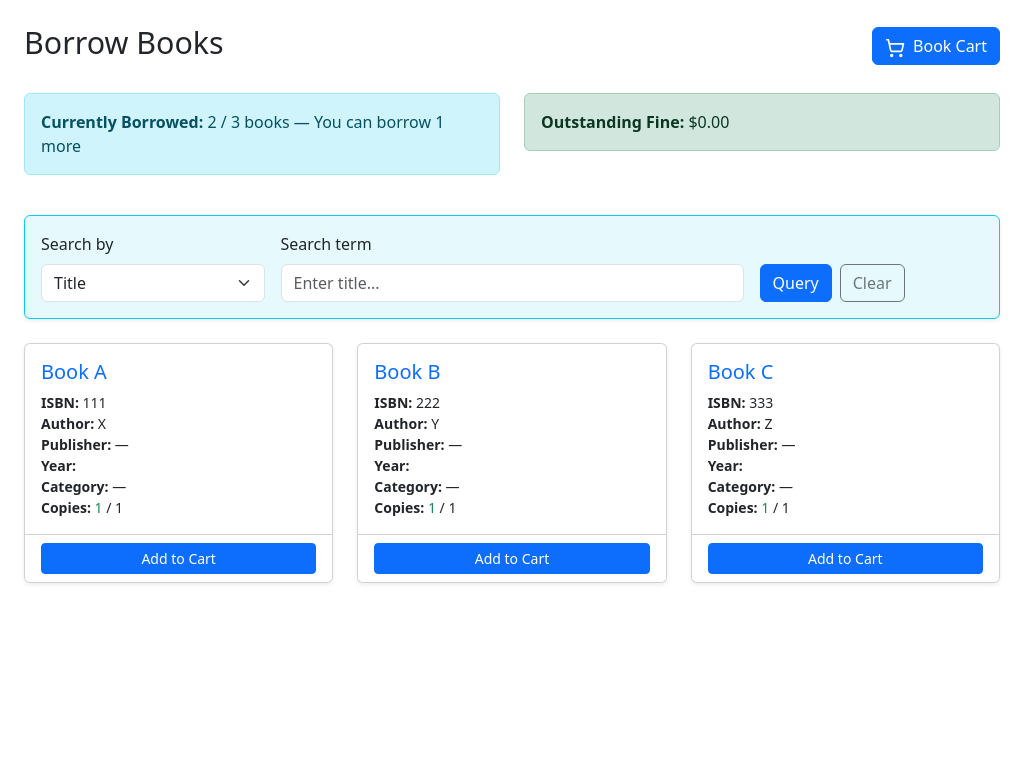
Test: BorrowBooks › member with 2 active + 1 in cart cannot add more books (limit reached)
What coordinates should you click on to do the following:
click the button "Add to Cart" below "111"
I would click on:
 (179, 558)
Its box is [41,542,316,574].
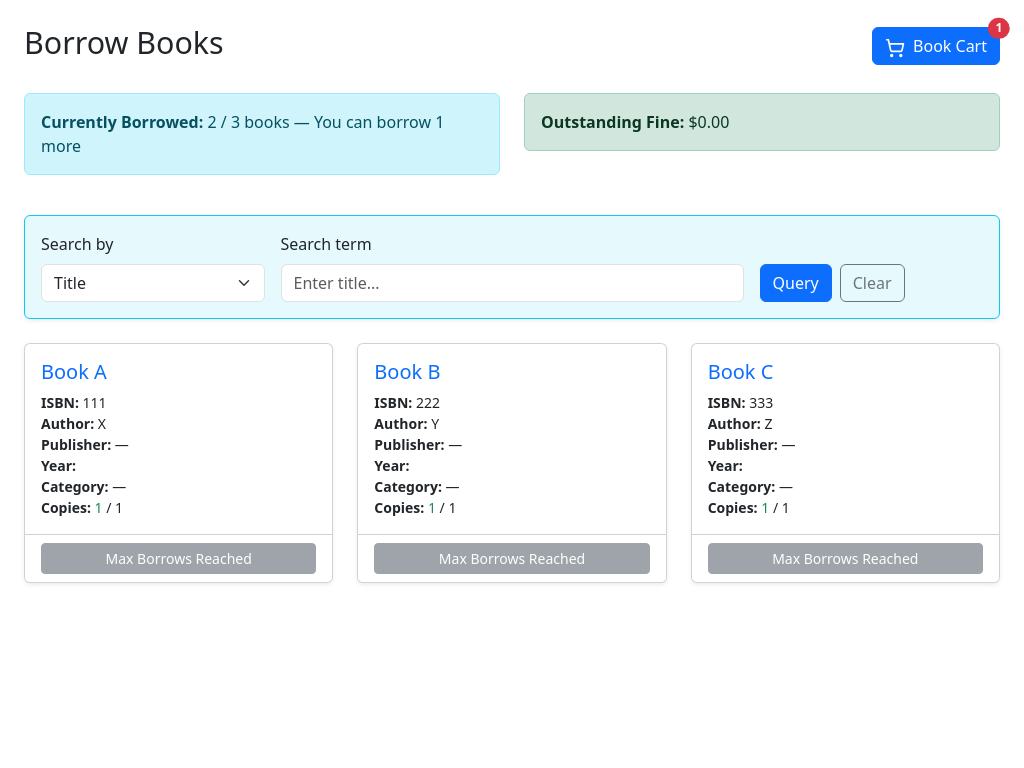
Now no buttons "Add to Cart" are shown
Now the button "Max Borrows Reached" below "111" is disabled, box [41,542,316,574]
Now the button "Max Borrows Reached" below "222" is disabled, box [374,542,650,574]
